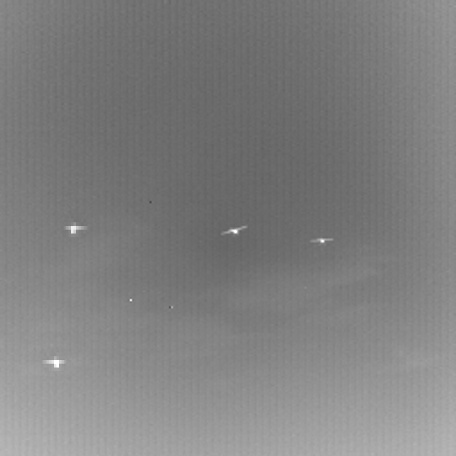plane: (39, 345, 69, 375), (60, 211, 90, 241), (217, 220, 244, 238), (309, 232, 334, 244)
